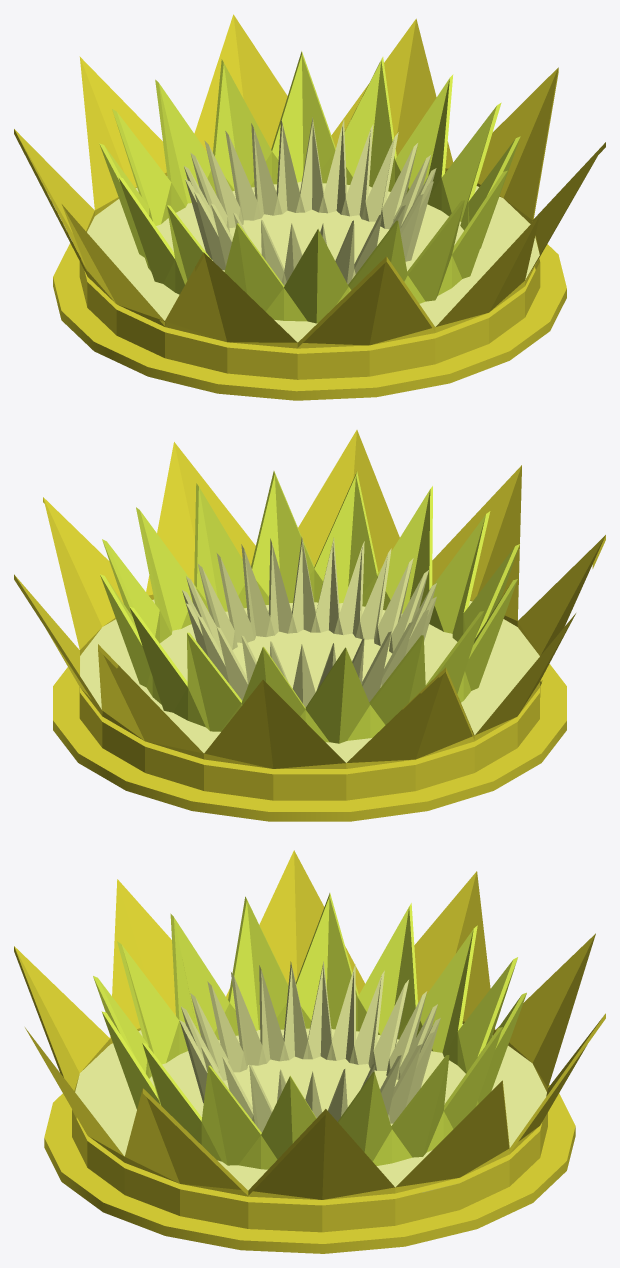
The model's file is portal_abrir_000010.obj.
3 views of the same model, one above another, from view 1: azimuth 30°, elevation 25°; view 2: azimuth 150°, elevation 25°; view 3: azimuth 270°, elevation 25° (orthographic). The views are drawn at different scales.
Parts seen in each view (by area): view 1: pCylinder1, Cylinder, Cylinder.001; view 2: pCylinder1, Cylinder, Cylinder.001; view 3: pCylinder1, Cylinder, Cylinder.001.
Part boxes in pixels (x1=…): pCylinder1: x1=14, y1=14, x2=605, y2=400; Cylinder: x1=99, y1=51, x2=520, y2=323; Cylinder.001: x1=184, y1=117, x2=436, y2=285; pCylinder1: x1=14, y1=430, x2=605, y2=821; Cylinder: x1=100, y1=471, x2=519, y2=743; Cylinder.001: x1=182, y1=537, x2=436, y2=707; pCylinder1: x1=14, y1=850, x2=605, y2=1253; Cylinder: x1=93, y1=893, x2=526, y2=1169; Cylinder.001: x1=179, y1=961, x2=440, y2=1132.
Size of the model in its own units: 2.41 by 0.7049 by 2.33.
Materials: 4 (4 with a texture image).
